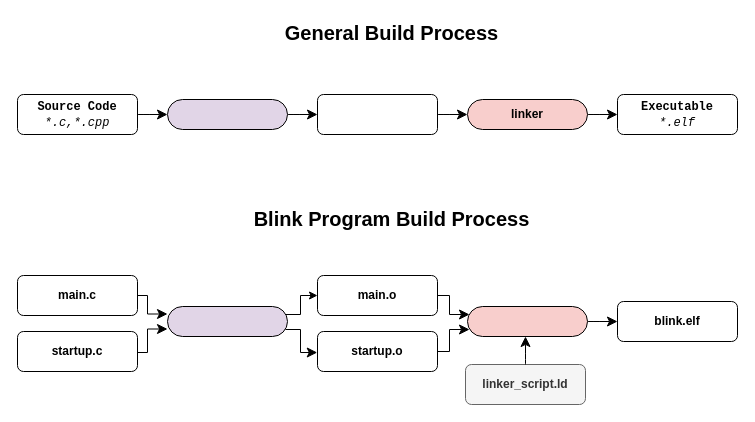
Some shapes in this 755 by 422 pixel diagram are drawn without their labels. The shapes that lost their labels are listed below. From the top down, each one's centre as x and y in pixels, then its label:
the point at 227,114: compiler
the point at 377,114: Object Files *.o
the point at 227,321: arm-none-eabi-gcc
the point at 527,321: arm-none-eabi-ld
